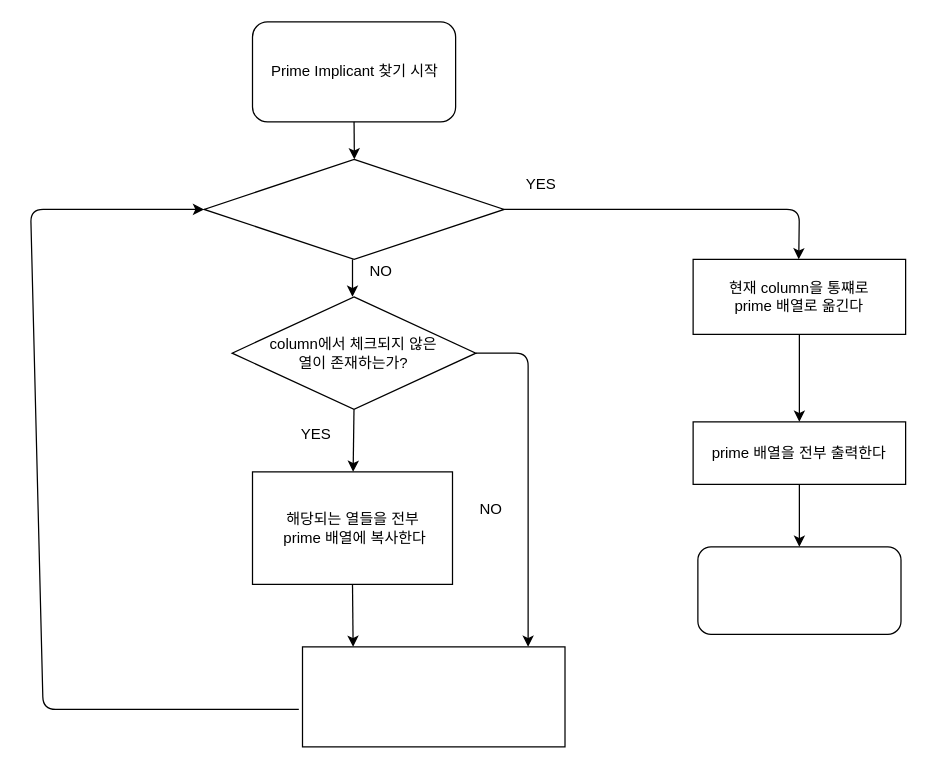
Image size: 928x769. Some labels were removed from this diagram. The shapes that lost their labels are listed below. From the top down, each one's centre as x and y in pixels, then its label:
the point at 353,208: 현재 column이 마지막 column인가?
the point at 799,590: Prime Implicant 찾기 끝
the point at 433,696: column을 전부 비운다
